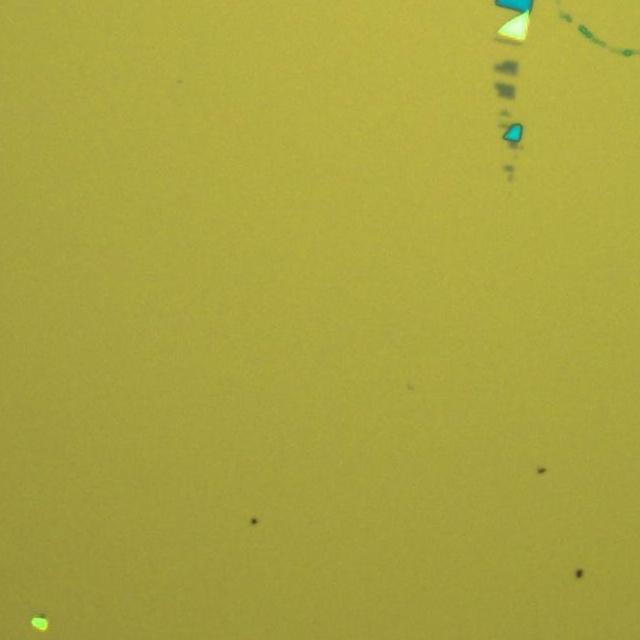monolayer-eWW4: (492, 59, 520, 76), (494, 82, 516, 100)
